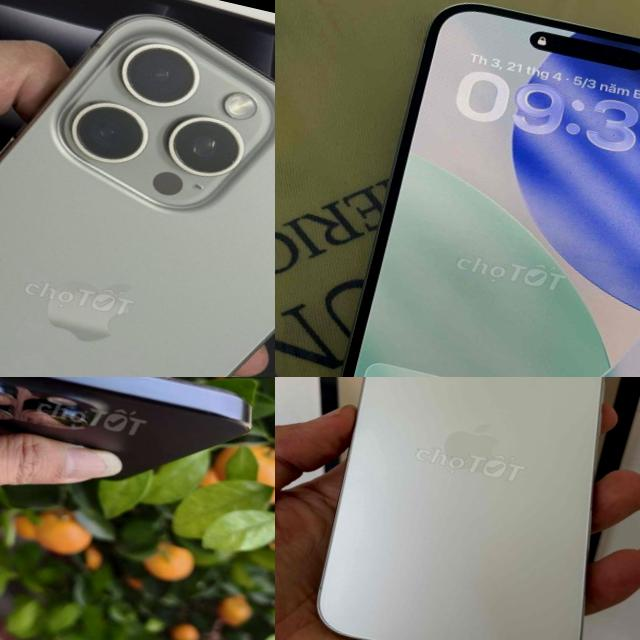gen_15: (293, 0, 640, 377), (0, 0, 275, 377), (275, 377, 640, 640), (0, 377, 266, 506)
